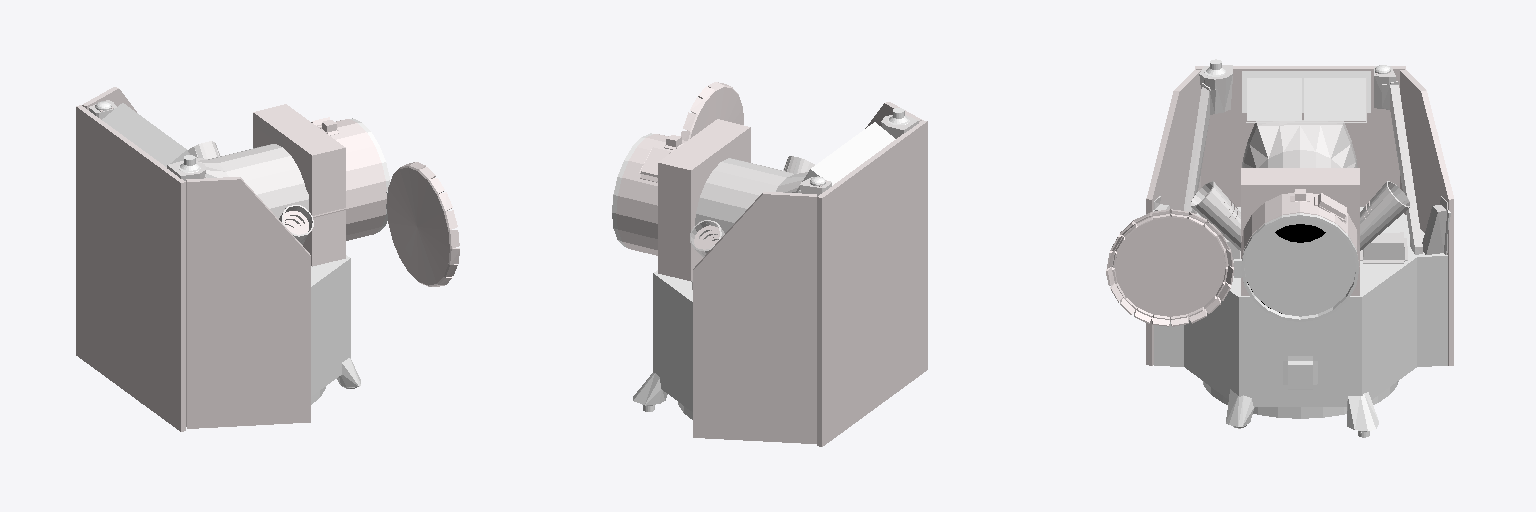
The model's file is 6_CHEOPS_LP.obj.
The picture shows the model from 3 angles: view 1: azimuth 30°, elevation 25°; view 2: azimuth 150°, elevation 25°; view 3: azimuth 270°, elevation 25°; orthographic projection.
Parts seen in each view (by area): view 1: CHEOPS_LowPoly_polySurface3_Mesh.016, CHEOPS_LowPoly_polySurface19_polySurface15_Mesh.026, CHEOPS_LowPoly_pCube19_Mesh.017, CHEOPS_LowPoly_group4_pCylinder39_polySurface12_Mesh.030, CHEOPS_LowPoly_pCube32_polySurface22_Mesh.022, CHEOPS_LowPoly_polySurface15_polySurface17_Mesh.027; view 2: CHEOPS_LowPoly_polySurface3_Mesh.016, CHEOPS_LowPoly_polySurface19_polySurface15_Mesh.026, CHEOPS_LowPoly_pCube19_Mesh.017, CHEOPS_LowPoly_pCube32_polySurface22_Mesh.022, CHEOPS_LowPoly_polySurface15_polySurface17_Mesh.027, CHEOPS_LowPoly_group4_pCylinder39_polySurface12_Mesh.030, CHEOPS_LowPoly_polySurface15_polySurface16_Mesh.028, CHEOPS_LowPoly_pCylinder7_Mesh.018; view 3: CHEOPS_LowPoly_pCube19_Mesh.017, CHEOPS_LowPoly_polySurface3_Mesh.016, CHEOPS_LowPoly_pCube32_polySurface22_Mesh.022, CHEOPS_LowPoly_polySurface11_group4_pCylinder39_Mesh.029, CHEOPS_LowPoly_pCylinder33_Mesh.004, CHEOPS_LowPoly_pCube31_Mesh.015, CHEOPS_LowPoly_polySurface19_polySurface15_Mesh.026, CHEOPS_LowPoly_pCylinder7_Mesh.018, CHEOPS_LowPoly_group4_pCylinder39_polySurface12_Mesh.030, CHEOPS_LowPoly_polySurface15_polySurface17_Mesh.027, CHEOPS_LowPoly_pCylinder19_Mesh.002, pCylinder1_CHEOPS_LowPoly_Mesh (+2 smaller).
Boxes of the visible parts, box(x1,y1,x2,y2) form: CHEOPS_LowPoly_polySurface3_Mesh.016: box(76, 87, 310, 431); CHEOPS_LowPoly_polySurface19_polySurface15_Mesh.026: box(253, 104, 345, 266); CHEOPS_LowPoly_pCube19_Mesh.017: box(102, 103, 350, 396); CHEOPS_LowPoly_group4_pCylinder39_polySurface12_Mesh.030: box(387, 162, 459, 286); CHEOPS_LowPoly_pCube32_polySurface22_Mesh.022: box(89, 100, 313, 244); CHEOPS_LowPoly_polySurface15_polySurface17_Mesh.027: box(313, 119, 386, 240); CHEOPS_LowPoly_polySurface3_Mesh.016: box(693, 102, 927, 446); CHEOPS_LowPoly_polySurface19_polySurface15_Mesh.026: box(658, 119, 750, 280); CHEOPS_LowPoly_pCube19_Mesh.017: box(653, 122, 895, 411); CHEOPS_LowPoly_pCube32_polySurface22_Mesh.022: box(690, 115, 918, 289); CHEOPS_LowPoly_polySurface15_polySurface17_Mesh.027: box(616, 134, 686, 255); CHEOPS_LowPoly_group4_pCylinder39_polySurface12_Mesh.030: box(681, 82, 743, 140); CHEOPS_LowPoly_polySurface15_polySurface16_Mesh.028: box(639, 135, 683, 182); CHEOPS_LowPoly_pCylinder7_Mesh.018: box(633, 373, 667, 404); CHEOPS_LowPoly_pCube19_Mesh.017: box(1154, 71, 1447, 406); CHEOPS_LowPoly_polySurface3_Mesh.016: box(1146, 66, 1453, 365); CHEOPS_LowPoly_pCube32_polySurface22_Mesh.022: box(1153, 65, 1450, 263); CHEOPS_LowPoly_polySurface11_group4_pCylinder39_Mesh.029: box(1112, 214, 1227, 319); CHEOPS_LowPoly_pCylinder33_Mesh.004: box(1244, 218, 1355, 316); CHEOPS_LowPoly_pCube31_Mesh.015: box(1247, 78, 1365, 120); CHEOPS_LowPoly_polySurface19_polySurface15_Mesh.026: box(1241, 168, 1359, 295); CHEOPS_LowPoly_pCylinder7_Mesh.018: box(1226, 356, 1378, 430); CHEOPS_LowPoly_group4_pCylinder39_polySurface12_Mesh.030: box(1106, 209, 1233, 326); CHEOPS_LowPoly_polySurface15_polySurface17_Mesh.027: box(1241, 192, 1359, 282); CHEOPS_LowPoly_pCylinder19_Mesh.002: box(1241, 213, 1358, 321); pCylinder1_CHEOPS_LowPoly_Mesh: box(1203, 381, 1398, 418).
Size of the model in its own units: 1.3 by 1.55 by 1.68.